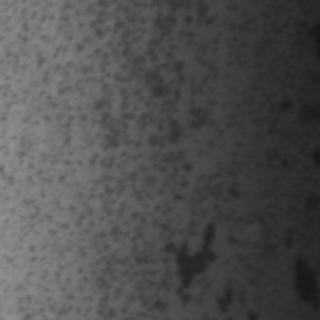pitted_surface: (7, 4, 274, 318)
